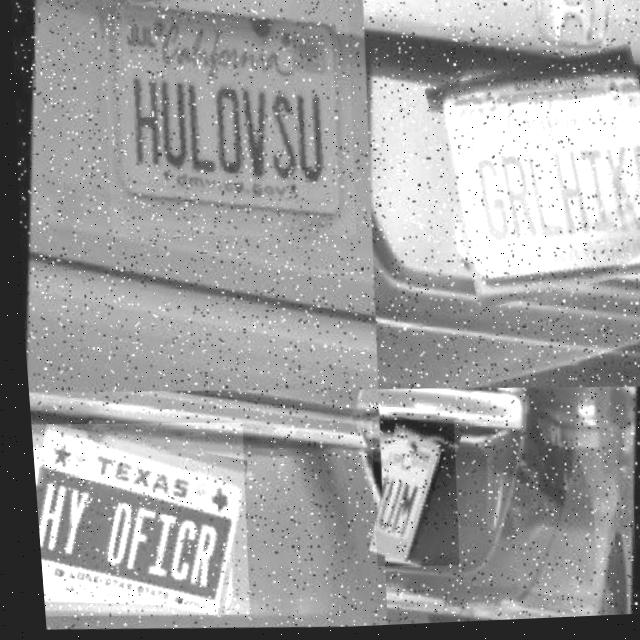LicensePlate: (94, 0, 361, 246), (422, 50, 640, 309), (28, 424, 237, 616), (359, 420, 455, 572)
